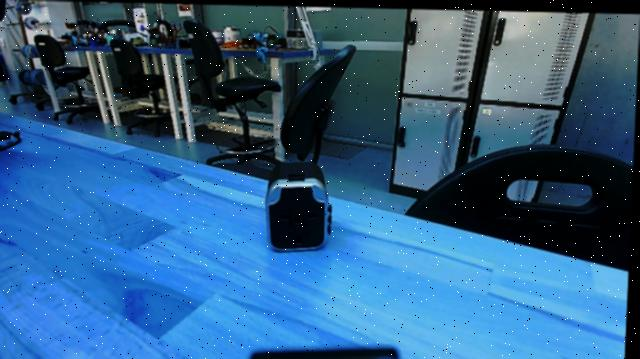adapter: (256, 159, 342, 254)
